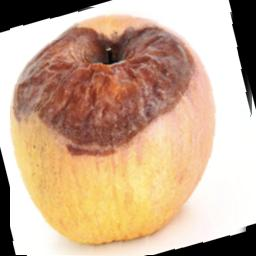Apple Rotten: (10, 5, 256, 256)
